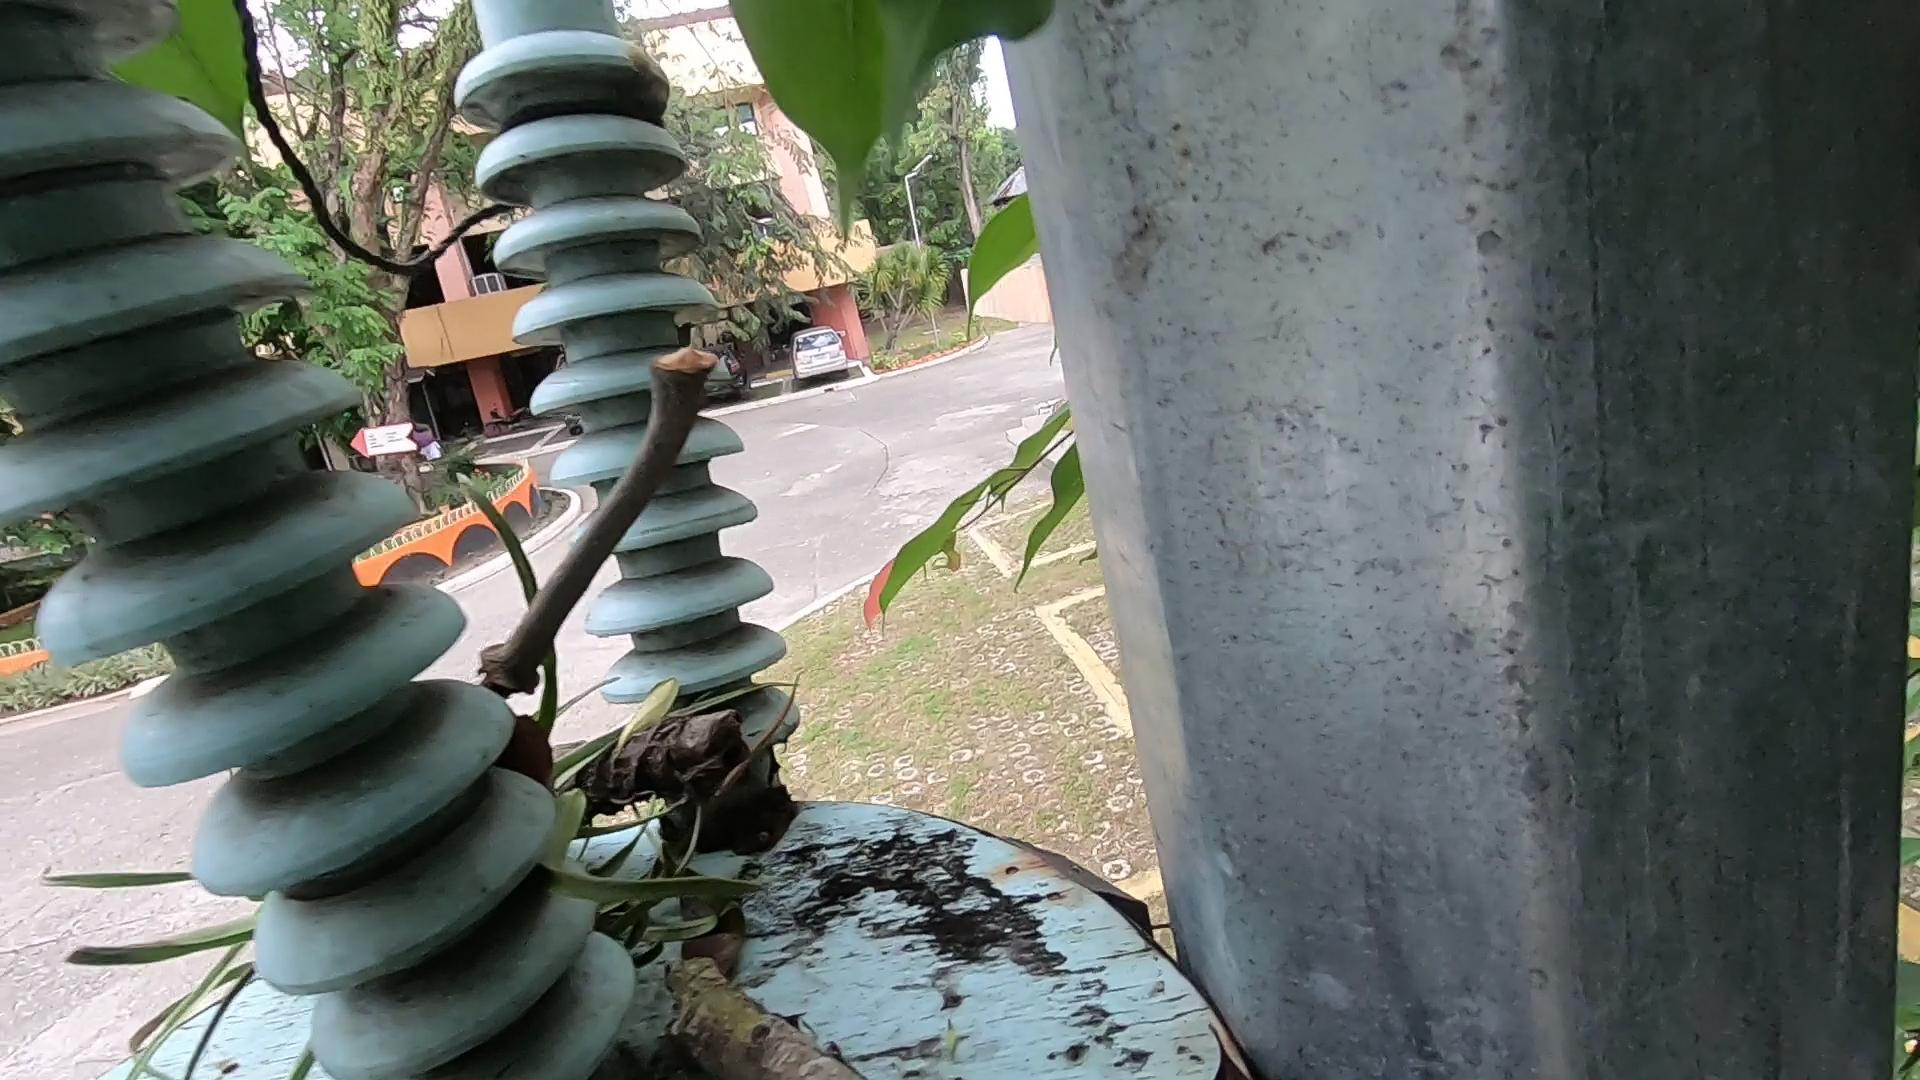branch with leaves: (393, 669, 876, 1080)
tree branch: (483, 369, 866, 724)
